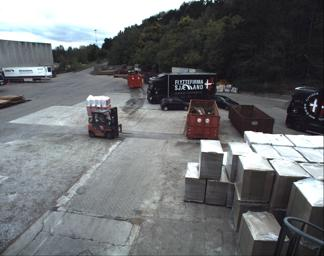rockwool_batts: (84, 94, 110, 115)
